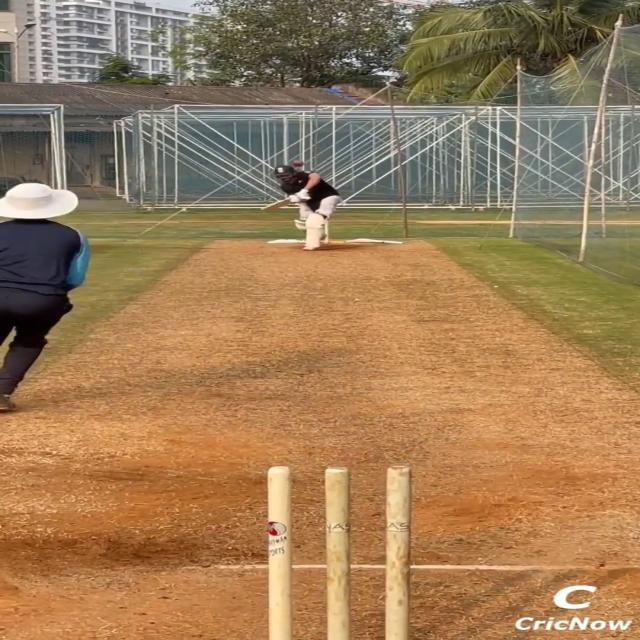ball: (292, 160, 305, 168)
stump: (268, 465, 415, 640)
